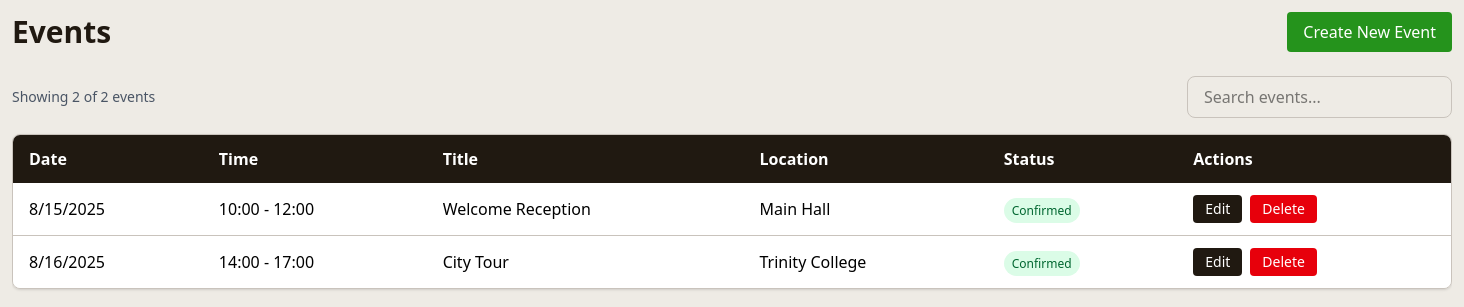
Admin Events List Page › should filter events based on search term
This screenshot has width=1464, height=307.
Check: the text "Welcome Reception" is shown, box 427,183 -> 744,236
Check: the text "City Tour" is shown, box 427,236 -> 744,288
Type "Welcome" into the field with placeholder "Search events..." at [1320, 97], box 1187,76 -> 1452,118
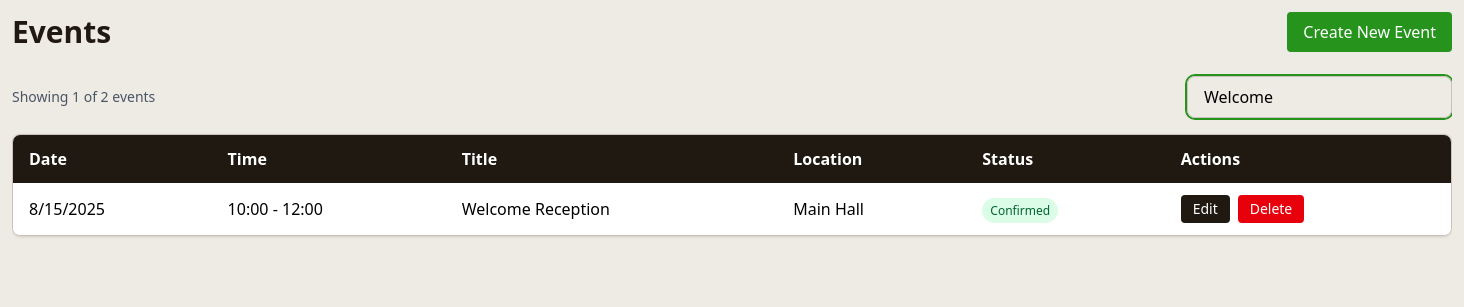
Check: the text "Welcome Reception" is shown, box 446,183 -> 777,235
Check: the text "City Tour" is gone
